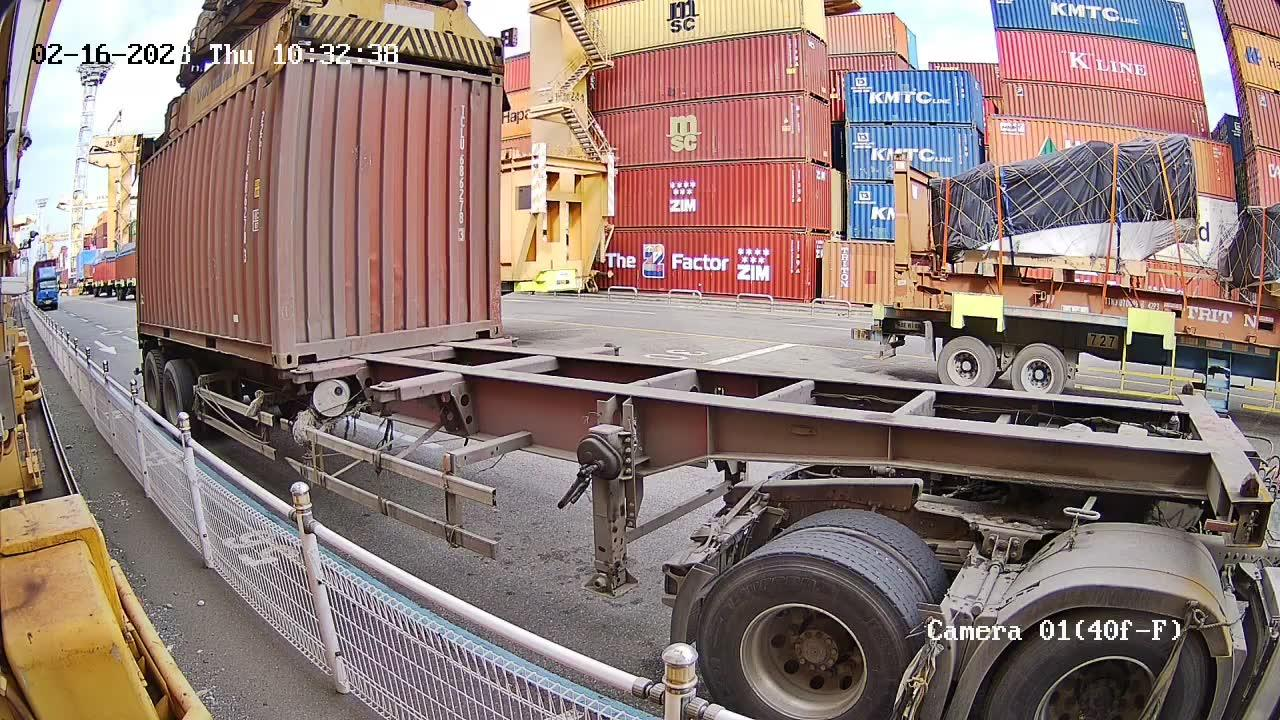Chassis: (296, 338, 518, 382)
Cone: (288, 367, 310, 385)
Hole_L: (279, 332, 316, 369)
Hole_R: (253, 332, 280, 368), (474, 310, 504, 339)
Tire: (162, 368, 185, 426), (144, 356, 159, 408)
